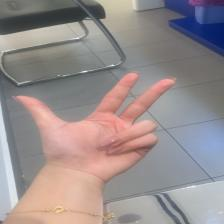three: (10, 70, 180, 174)
